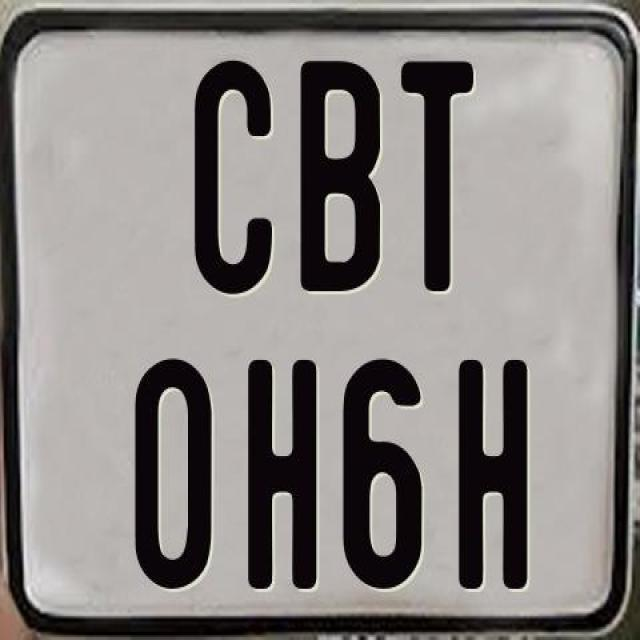0: (133, 355, 212, 587)
6: (338, 358, 426, 590)
B: (300, 56, 384, 294)
C: (192, 58, 270, 299)
H: (454, 357, 530, 596), (246, 358, 318, 596)
T: (397, 58, 472, 290)
